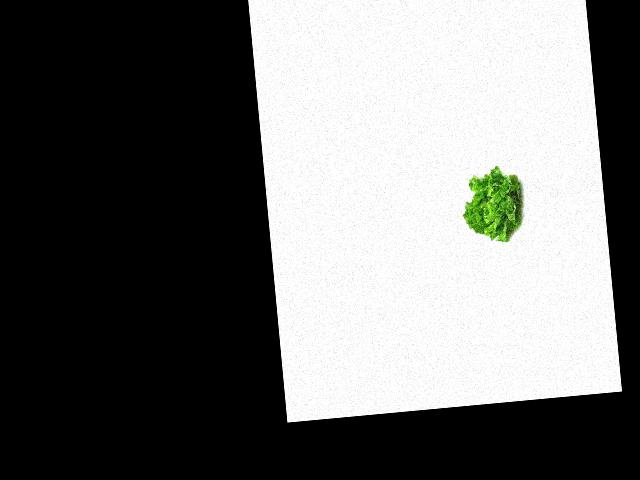lettuce: (459, 165, 527, 244)
